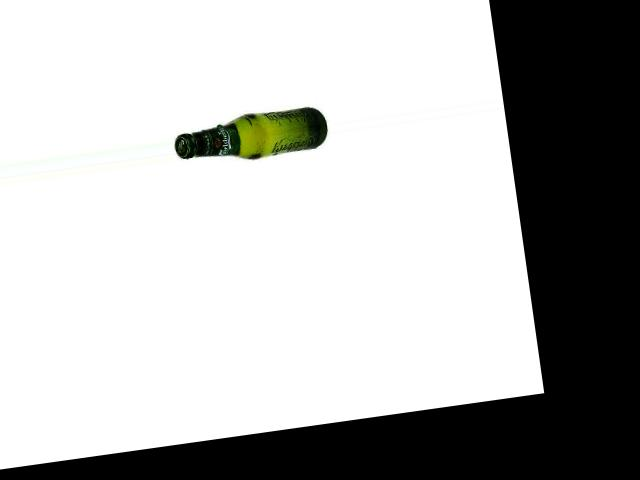beer: (172, 103, 330, 168)
